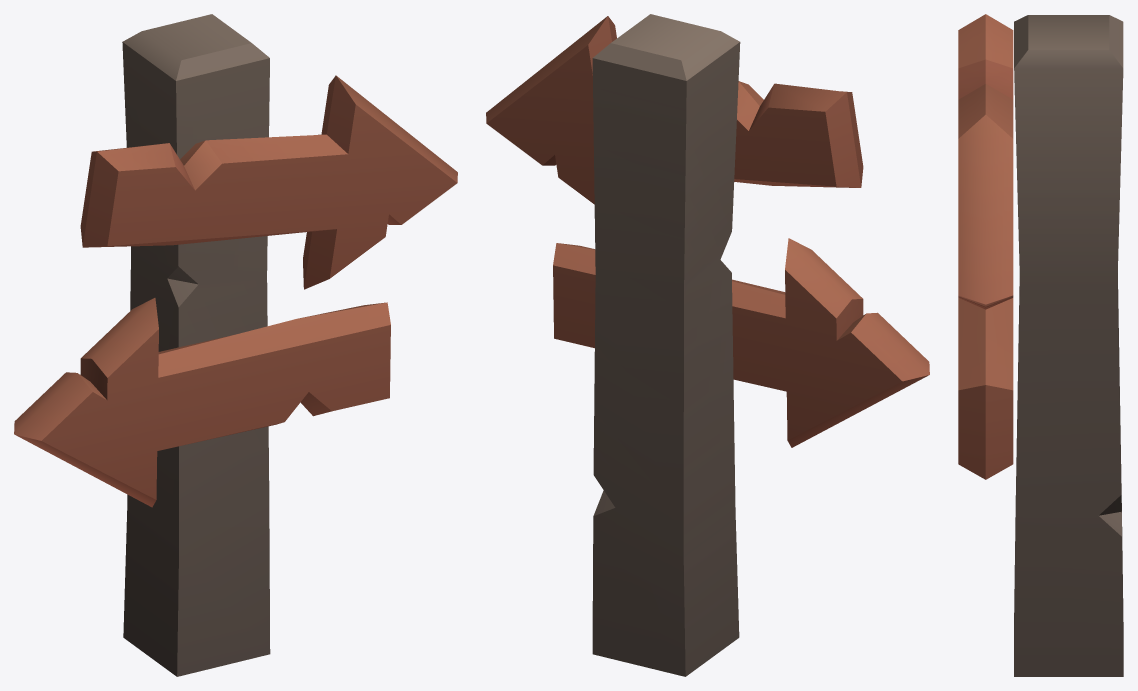
File: sign_both.glb
3 views of the same model, side by side, from view 1: azimuth 30°, elevation 25°; view 2: azimuth 150°, elevation 25°; view 3: azimuth 270°, elevation 25° (orthographic). The views are drawn at different scales.
Parts seen in each view (by area): view 1: sign_both; view 2: sign_both; view 3: sign_both.
Part boxes in pixels (x1,y1,x2,y2): sign_both: [14, 14, 457, 676]; sign_both: [486, 14, 929, 676]; sign_both: [958, 14, 1123, 676].
Bounding box in the file's own units: 1.91 × 2.5 × 0.6025.
Materials: 1 (1 with a texture image).
